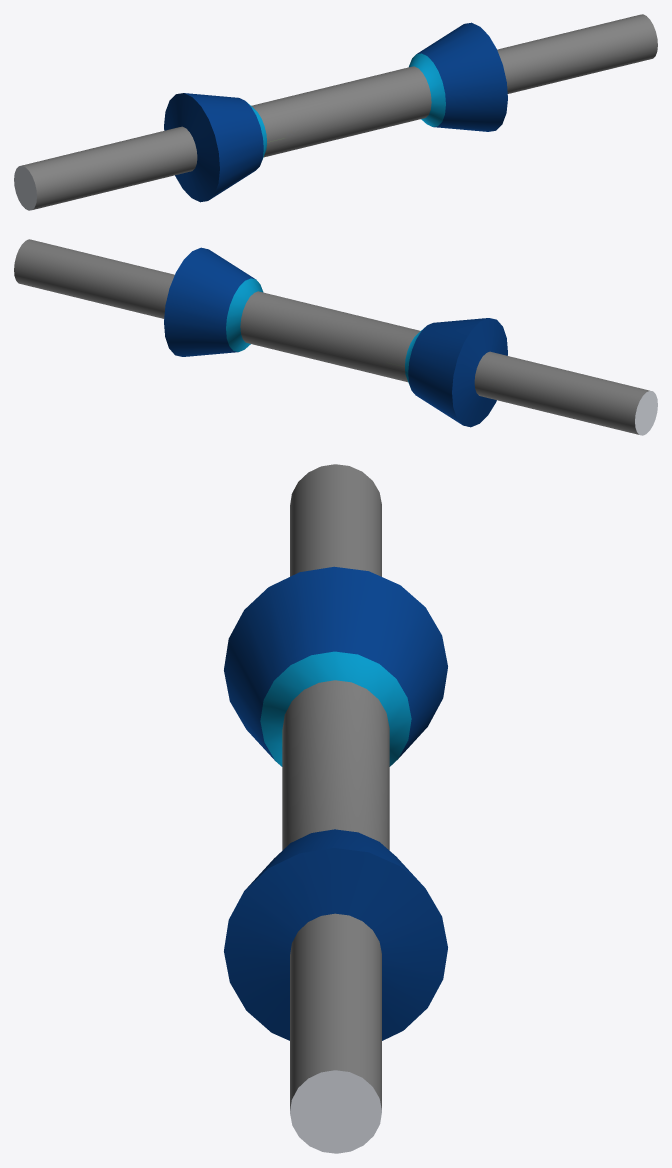
The model's file is Clon_weapon.fbx.
The picture shows the model from 3 angles, top to bottom: view 1: azimuth 30°, elevation 25°; view 2: azimuth 150°, elevation 25°; view 3: azimuth 270°, elevation 25°; orthographic projection. The views are drawn at different scales.
Parts seen in each view (by area): view 1: Clon_weapon; view 2: Clon_weapon; view 3: Clon_weapon.
Part boxes in pixels (<box>): Clon_weapon: <box>14,14,657,210</box>; Clon_weapon: <box>14,239,657,435</box>; Clon_weapon: <box>224,464,447,1153</box>.
Bounding box in the file's own units: 31.69 × 4.96 × 4.96.
